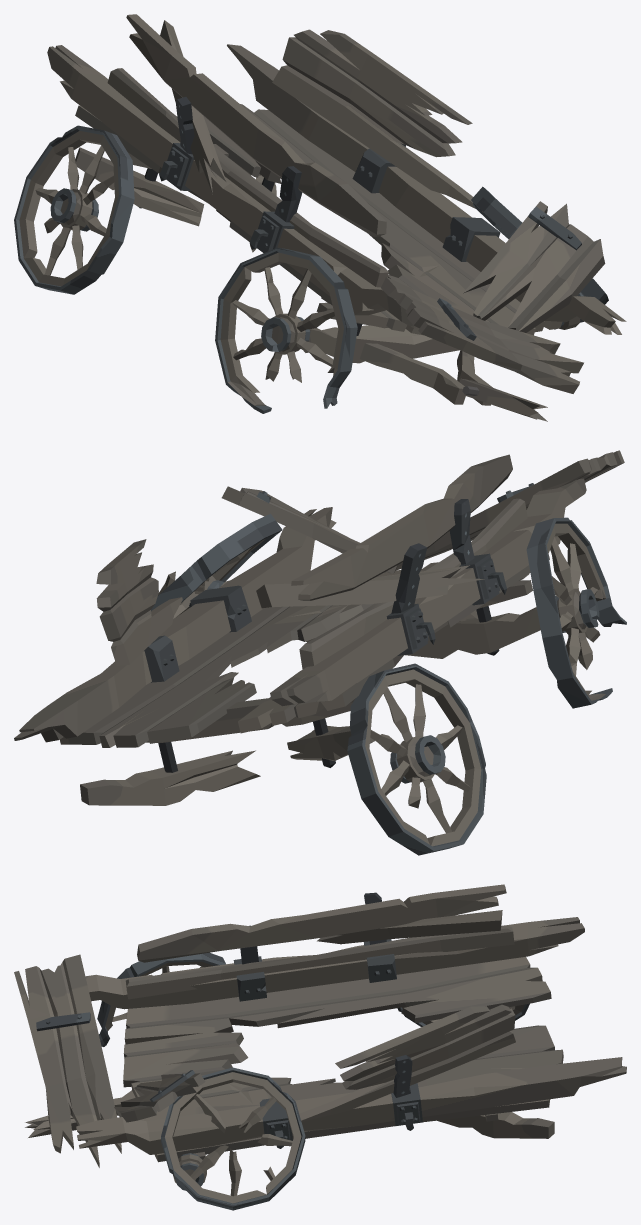
File: crypt_wagon.gltf
The picture shows the model from 3 angles, top to bottom: view 1: azimuth 30°, elevation 25°; view 2: azimuth 150°, elevation 25°; view 3: azimuth 270°, elevation 25°; orthographic projection. The views are drawn at different scales.
Visible parts, largest first — view 1: crypt_wagon; view 2: crypt_wagon; view 3: crypt_wagon.
Part boxes in pixels (x1=…): crypt_wagon: x1=14, y1=14, x2=626, y2=421; crypt_wagon: x1=14, y1=450, x2=626, y2=855; crypt_wagon: x1=14, y1=884, x2=626, y2=1210.
Size of the model in its own units: 3.5 by 2.02 by 5.21.
1 material, 1 textured.
